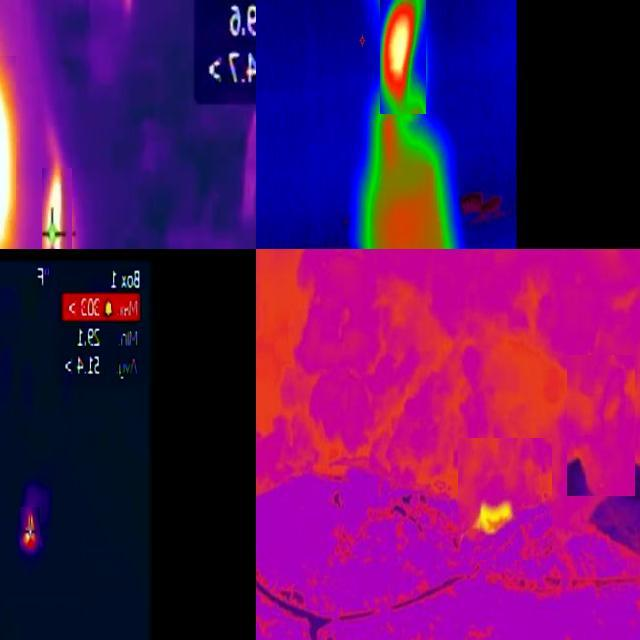fire: (381, 1, 427, 115), (468, 496, 523, 542), (43, 169, 73, 250), (21, 508, 41, 551)
